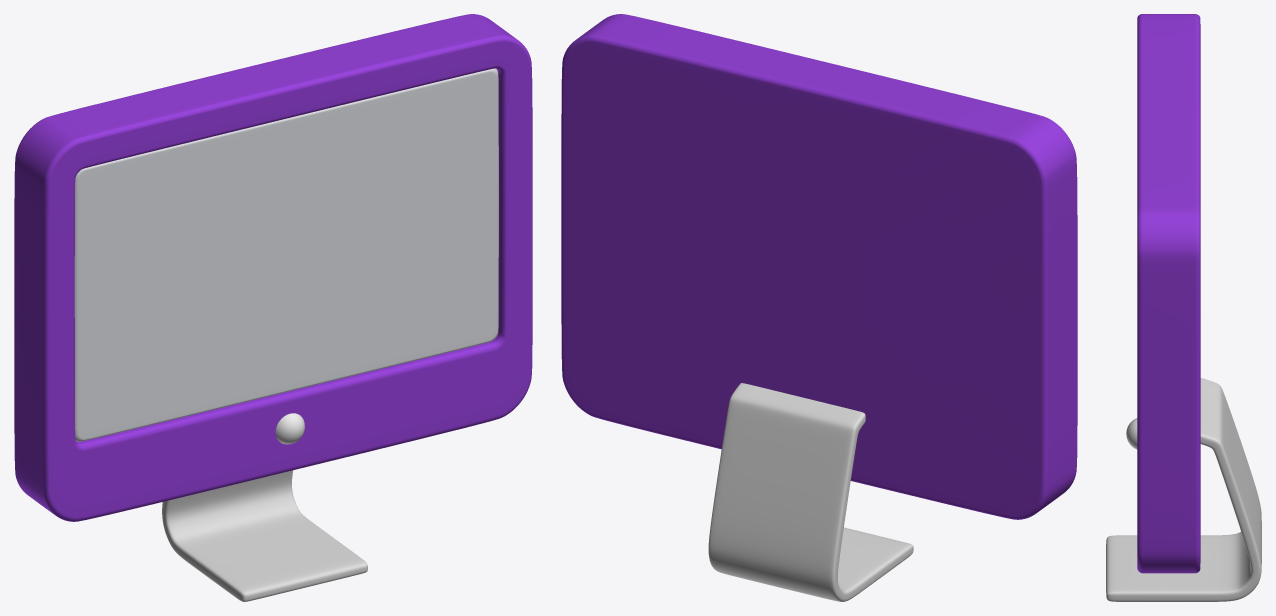
Rendered from computer.glb.
3 views of the same model, side by side, from view 1: azimuth 30°, elevation 25°; view 2: azimuth 150°, elevation 25°; view 3: azimuth 270°, elevation 25° (orthographic). The views are drawn at different scales.
Parts seen in each view (by area): view 1: Monitor; view 2: Monitor; view 3: Monitor.
Boxes of the visible parts, x1=… form: Monitor: x1=14, y1=14, x2=532, y2=601; Monitor: x1=561, y1=14, x2=1077, y2=601; Monitor: x1=1106, y1=14, x2=1261, y2=601.
Bounding box in the file's own units: 1.88 × 1.8 × 0.5495.
